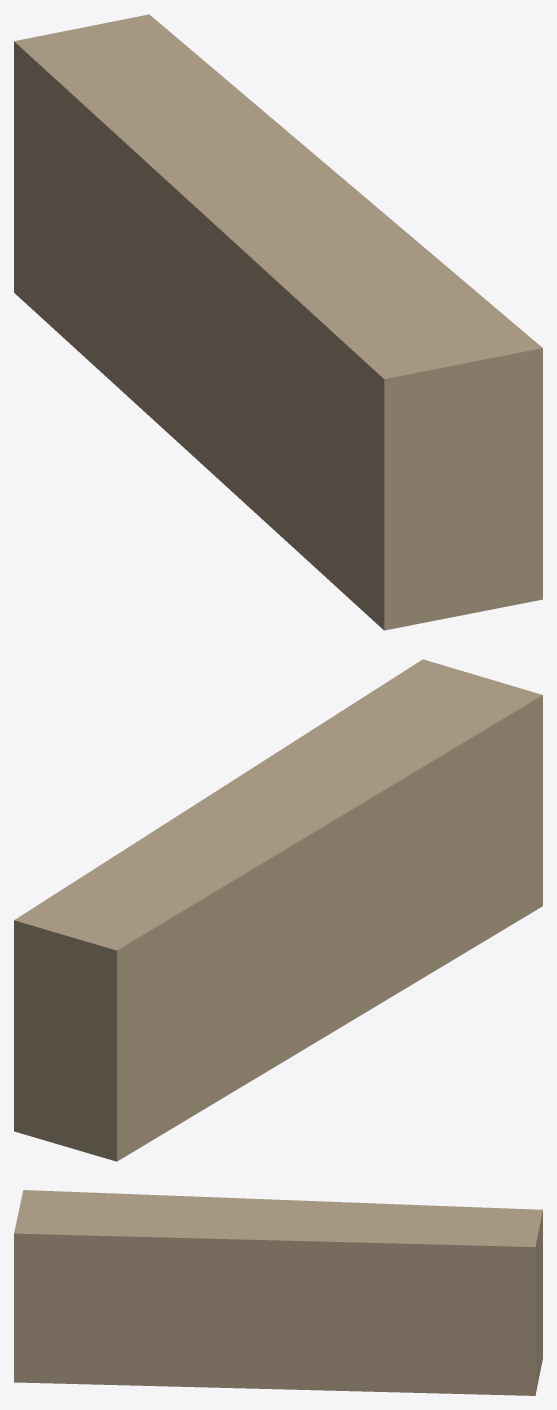
The model's file is bld_98640362.dae.
3 views of the same model, one above another, from view 1: azimuth 30°, elevation 25°; view 2: azimuth 150°, elevation 25°; view 3: azimuth 270°, elevation 25° (orthographic). The views are drawn at different scales.
Visible parts, largest first — view 1: Old Cutting Rooms; view 2: Old Cutting Rooms; view 3: Old Cutting Rooms.
Boxes of the visible parts, bbox=[...] form: Old Cutting Rooms: bbox=[14, 14, 542, 630]; Old Cutting Rooms: bbox=[14, 659, 542, 1161]; Old Cutting Rooms: bbox=[14, 1190, 542, 1395].
Bounding box in the file's own units: 6.58 × 25.76 × 8.
